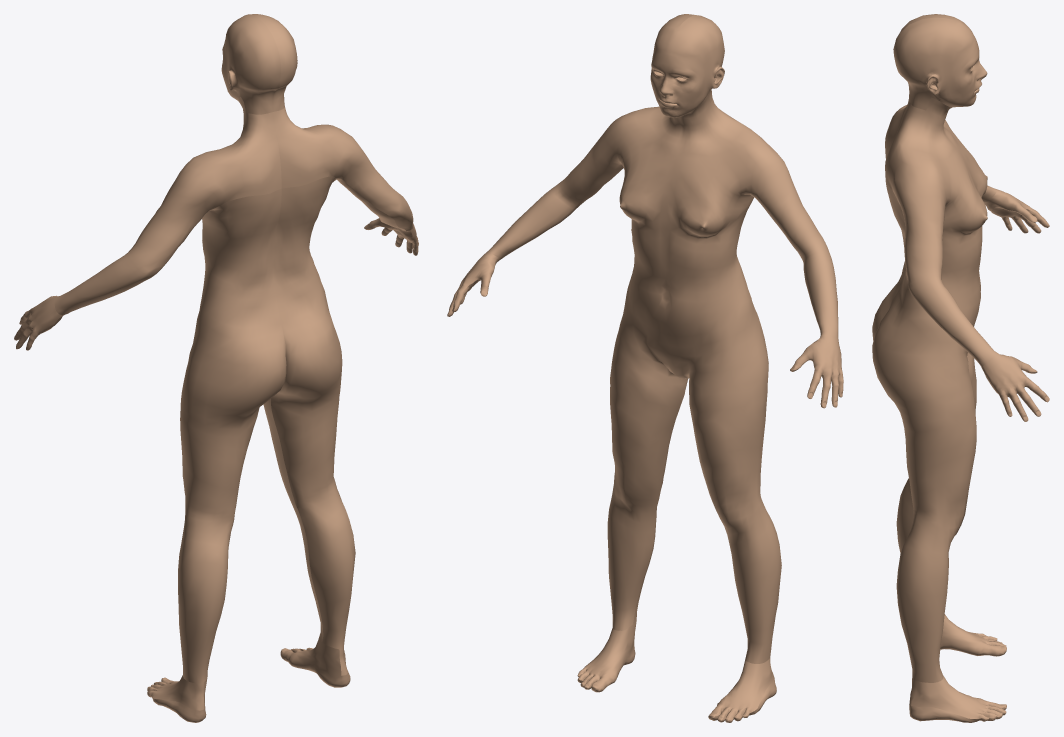
File: adult.glb
3 renders of one model, left to right at view 1: azimuth 30°, elevation 25°; view 2: azimuth 150°, elevation 25°; view 3: azimuth 270°, elevation 25°, orthographic. The views are drawn at different scales.
Parts seen in each view (by area): view 1: Human; view 2: Human; view 3: Human.
Boxes of the visible parts, x1=… form: Human: x1=14, y1=14, x2=418, y2=722; Human: x1=447, y1=14, x2=843, y2=722; Human: x1=872, y1=14, x2=1049, y2=722.
Bounding box in the file's own units: 1.05 × 1.72 × 0.4141.
